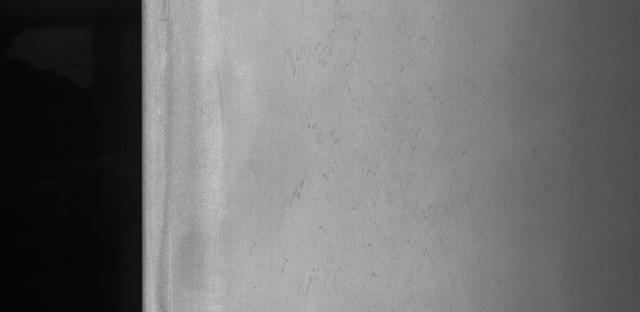silk_spot: (271, 24, 402, 241)
